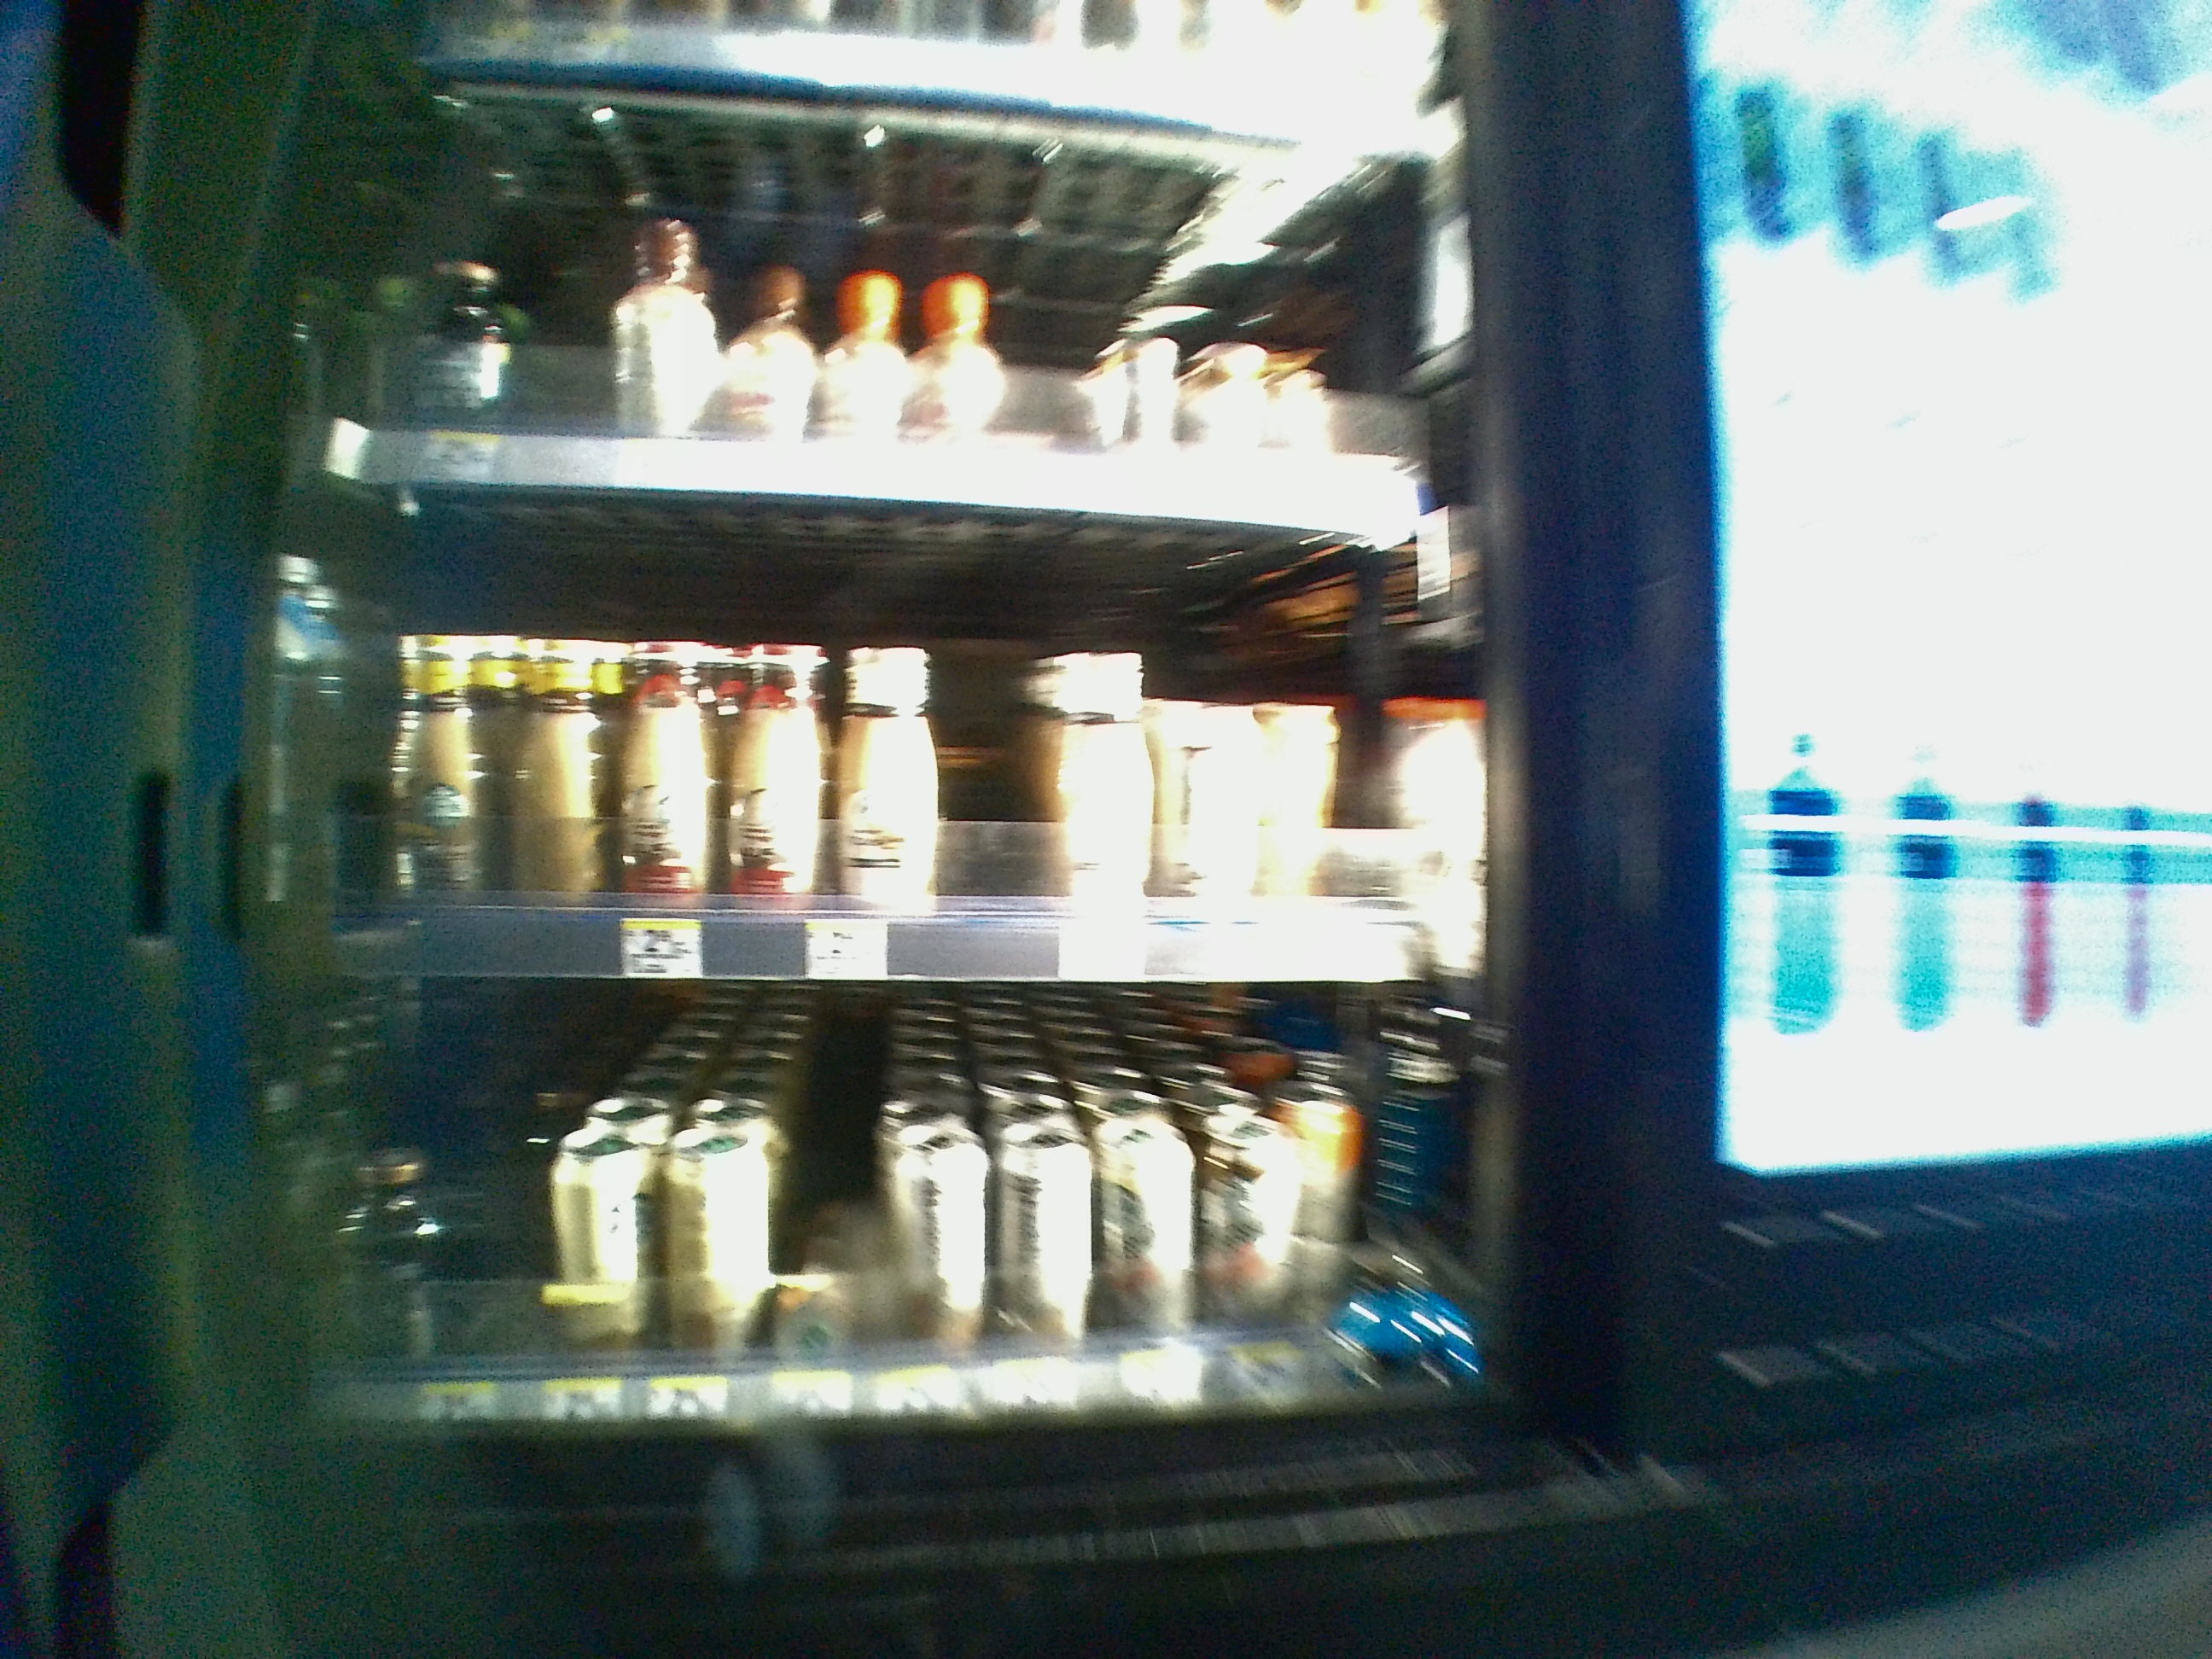shelf: (244, 490, 1498, 983), (226, 985, 1500, 1434)
